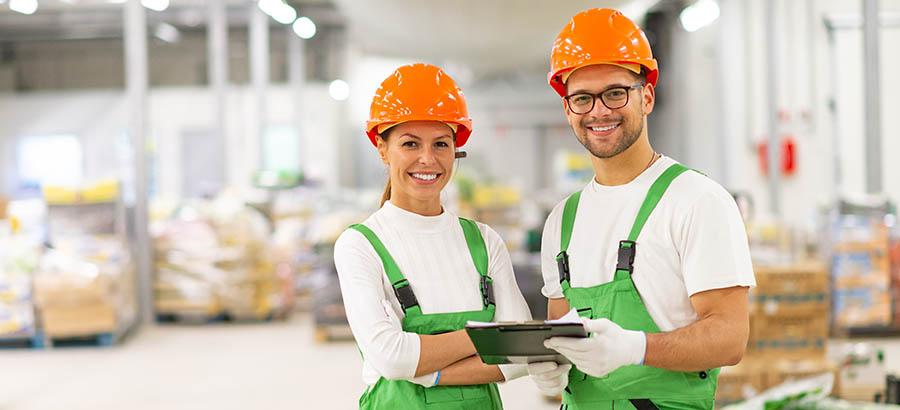helmet: (547, 8, 660, 101), (366, 63, 476, 152)
